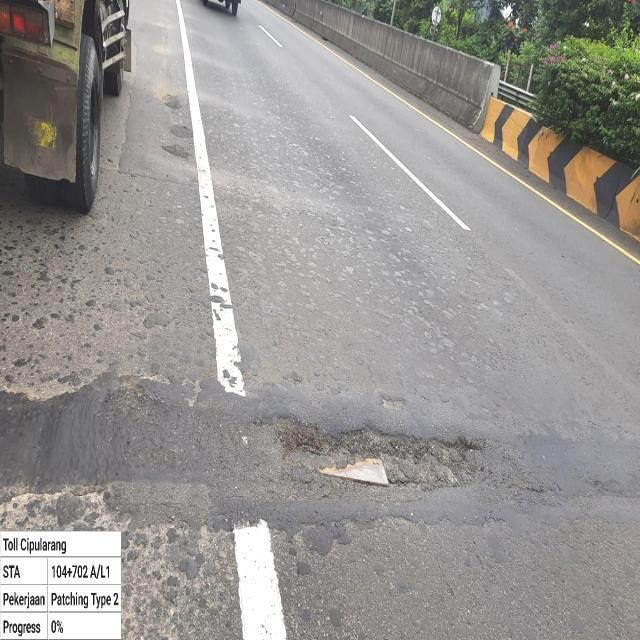Buraco: (243, 410, 491, 507)
